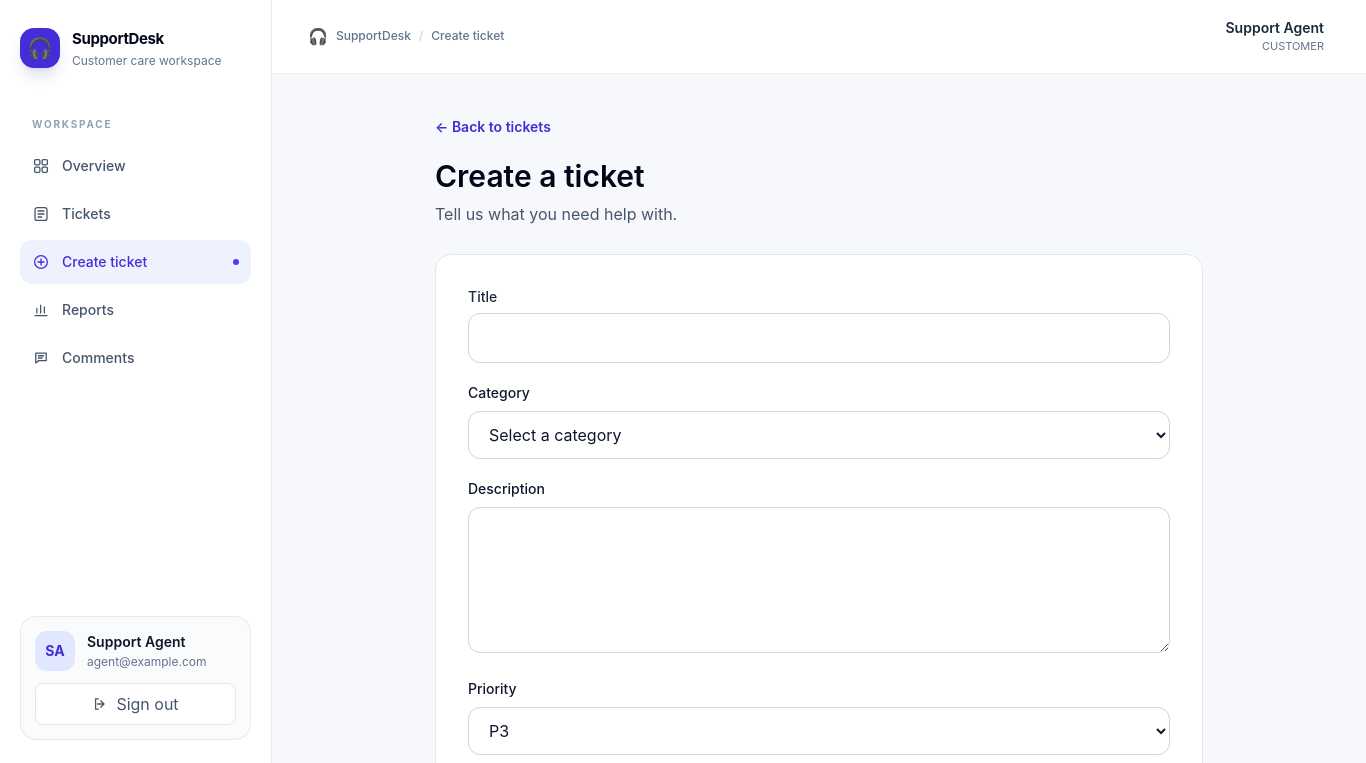
SupportDesk frontend foundation › submits the selected category when creating a ticket
The width and height of the screenshot is (1366, 763).
Type "Cannot sign in" into the field labelled "Title" at [819, 338], box x1=468 y1=312 x2=1170 y2=362
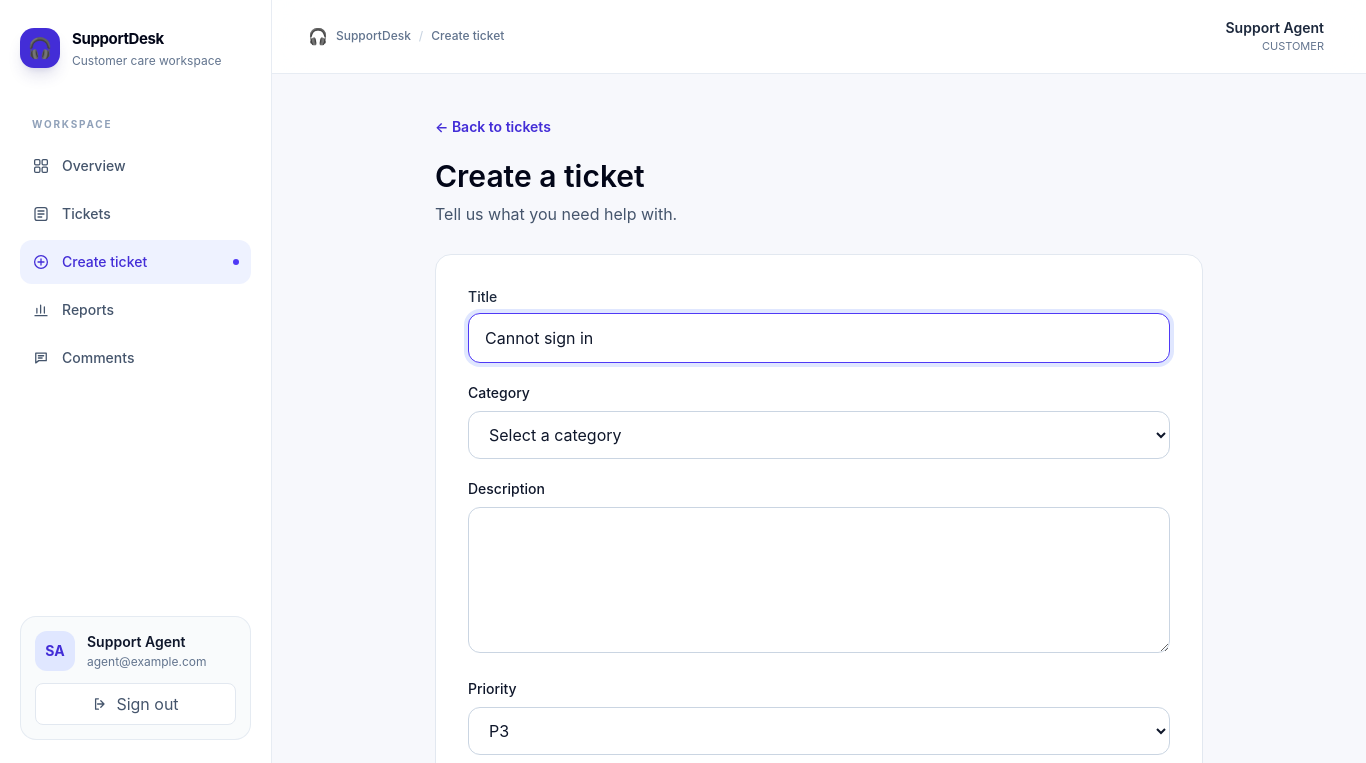
Select "Billing" in the dropdown labelled "Category" at [819, 434], box x1=468 y1=410 x2=1170 y2=458
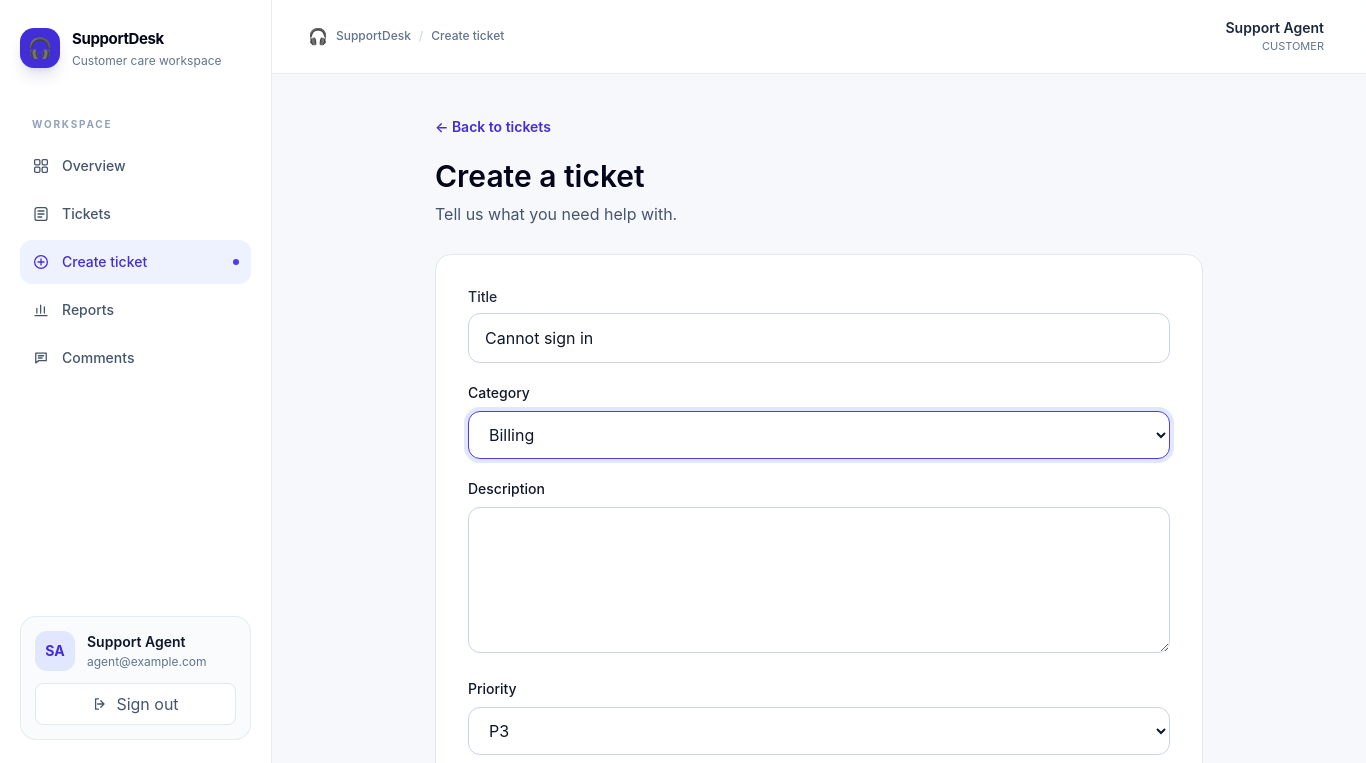
Type "The sign-in page returns an error." into the text box labelled "Description" at [819, 580], box x1=468 y1=506 x2=1170 y2=652
(page scrolled)
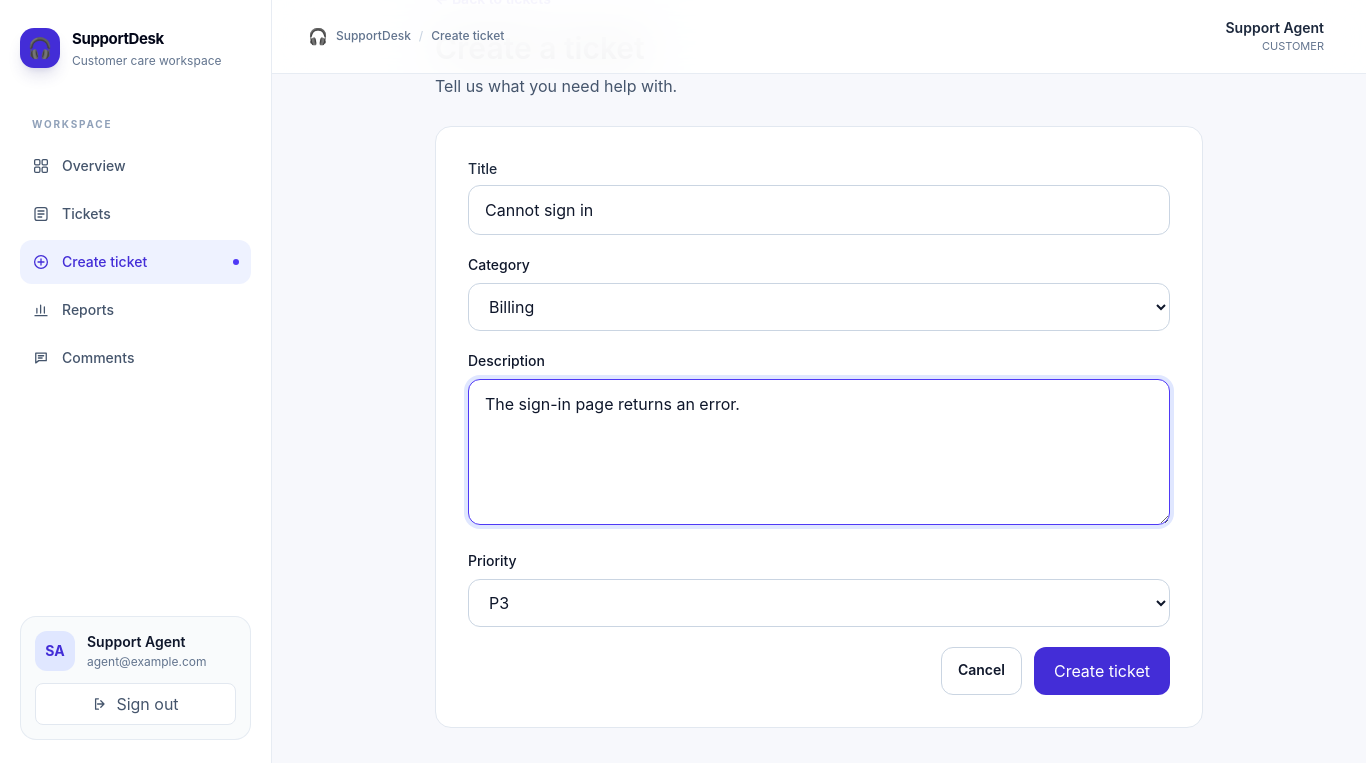
Click the button "Create ticket" at [1102, 670], box x1=1034 y1=646 x2=1170 y2=694
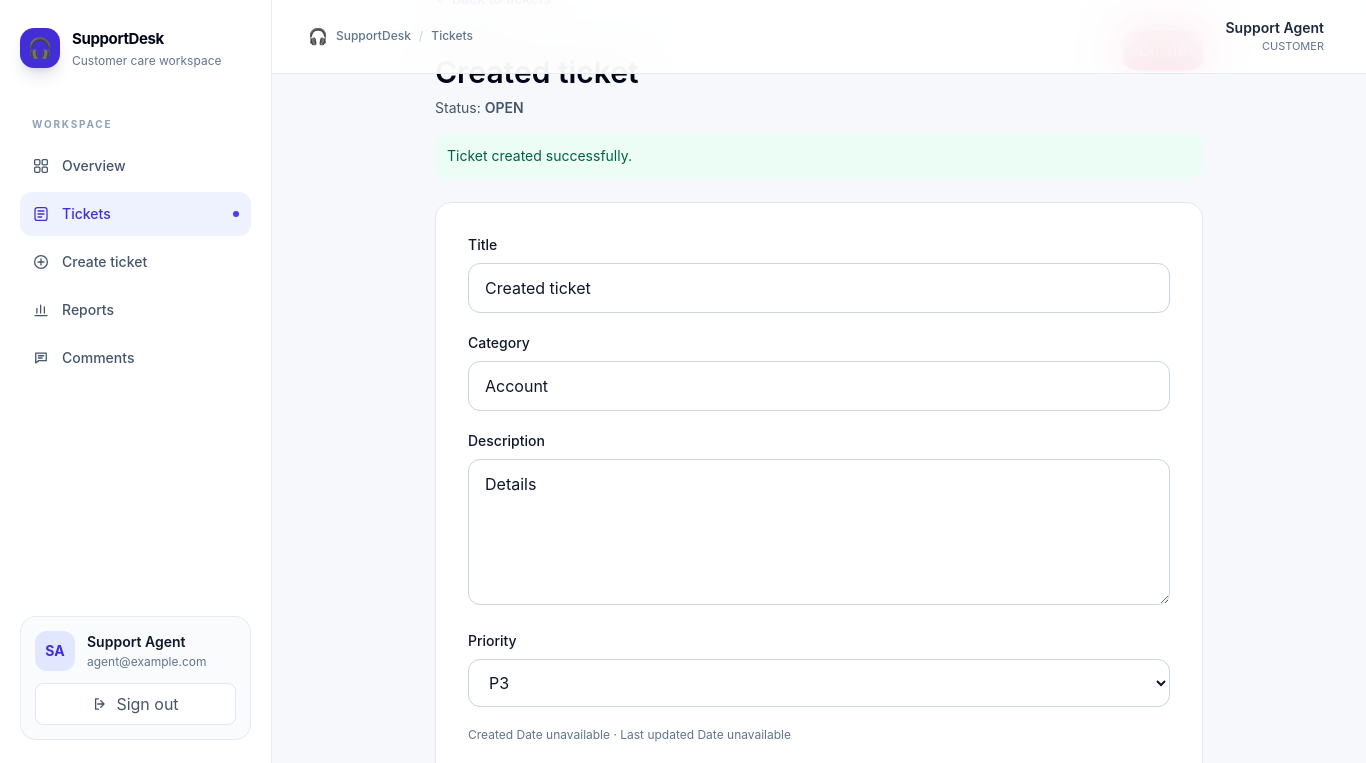
Expected: the text "Status: OPEN" is shown, x1=435 y1=98 x2=524 y2=116
